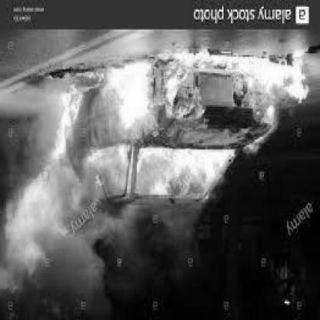Smoke: (7, 188, 103, 310)
